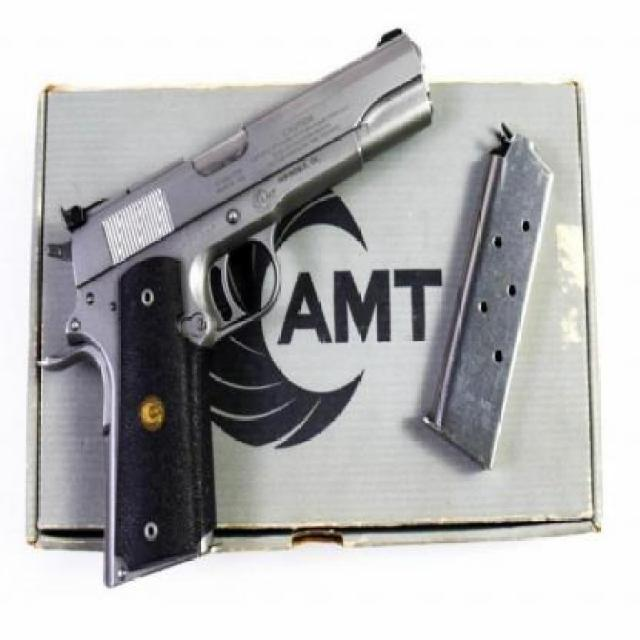gun: (36, 24, 435, 588)
